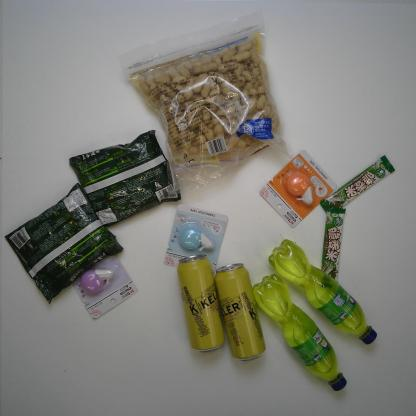Alcohol: (166, 251, 232, 359), (210, 261, 270, 367)
Chocolate: (324, 152, 392, 221), (316, 210, 351, 294)
Dried Food: (128, 13, 286, 194)
Drink: (275, 236, 382, 348), (252, 270, 348, 394)
Instant Noodles: (2, 184, 112, 306), (70, 128, 172, 235)
Stationery: (258, 143, 344, 230), (61, 247, 145, 327), (160, 203, 242, 278)
